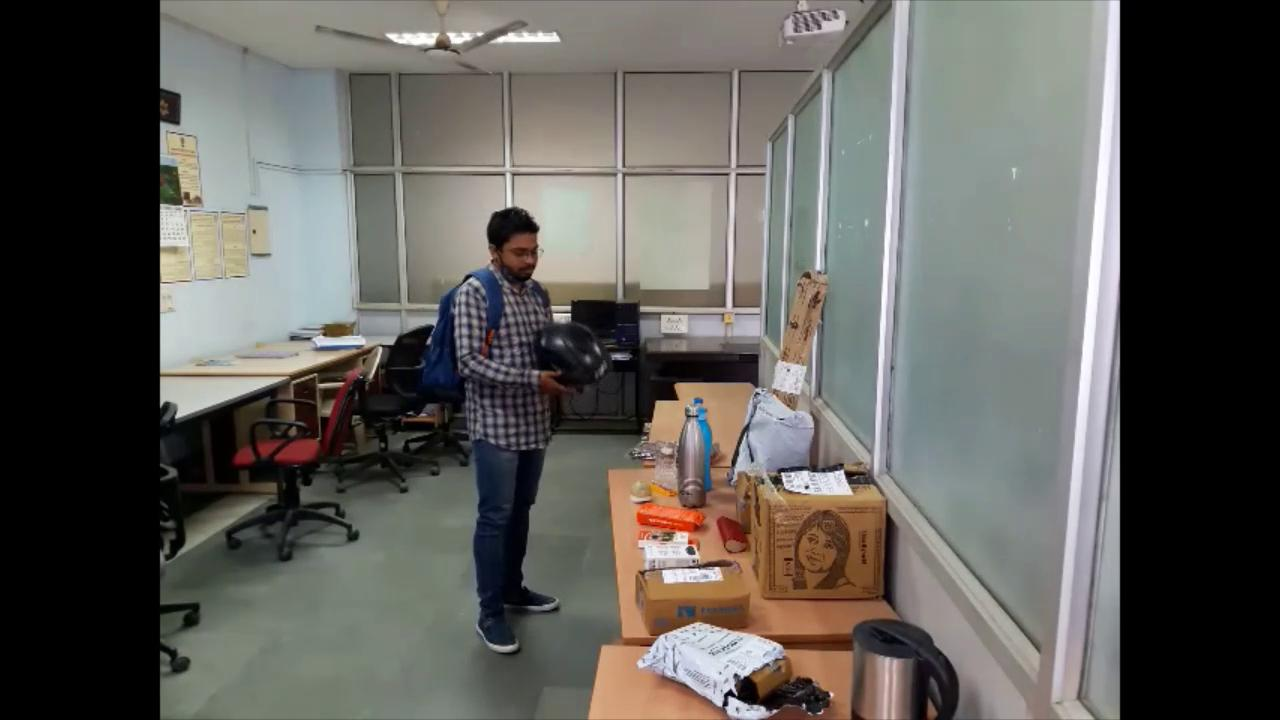Normal: (412, 201, 607, 715)
